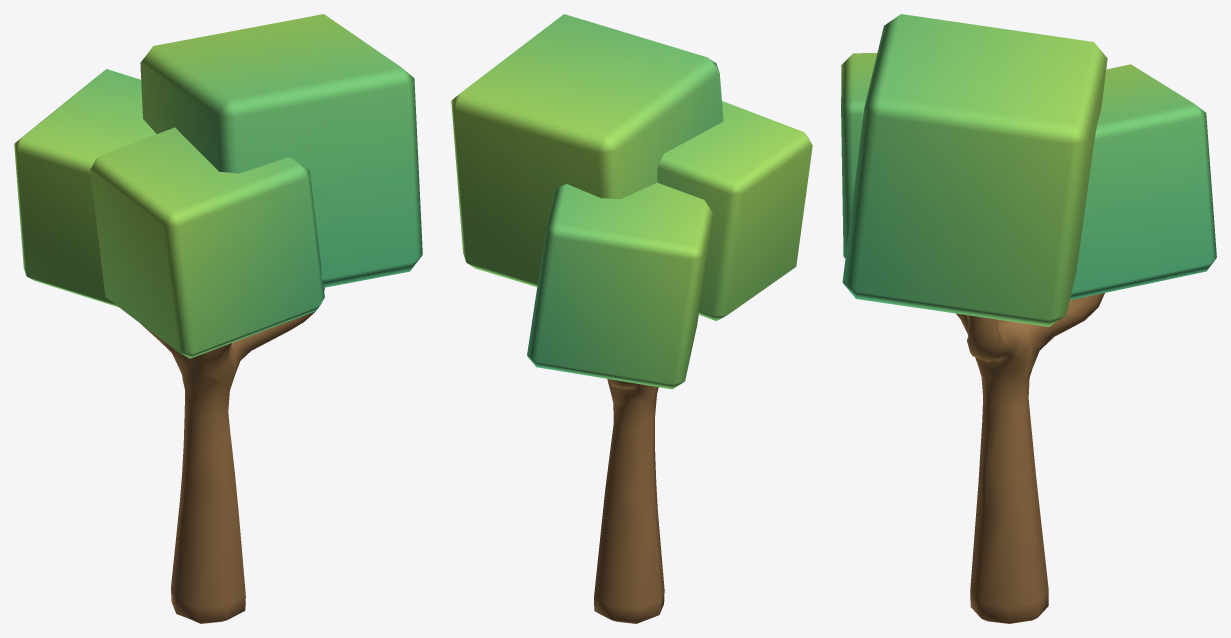
Rendered from tree2.glb.
3 views of the same model, side by side, from view 1: azimuth 30°, elevation 25°; view 2: azimuth 150°, elevation 25°; view 3: azimuth 270°, elevation 25° (orthographic). The views are drawn at different scales.
Parts seen in each view (by area): view 1: tree; view 2: tree; view 3: tree.
Boxes of the visible parts, bbox=[...] form: tree: bbox=[14, 14, 422, 623]; tree: bbox=[451, 14, 812, 623]; tree: bbox=[841, 14, 1216, 623].
Size of the model in its own units: 2.56 by 4.65 by 2.71.
1 material, 1 textured.
